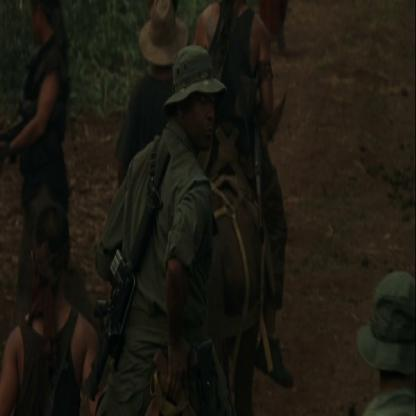Guns: (82, 139, 168, 403), (0, 94, 67, 154), (245, 71, 268, 245)
